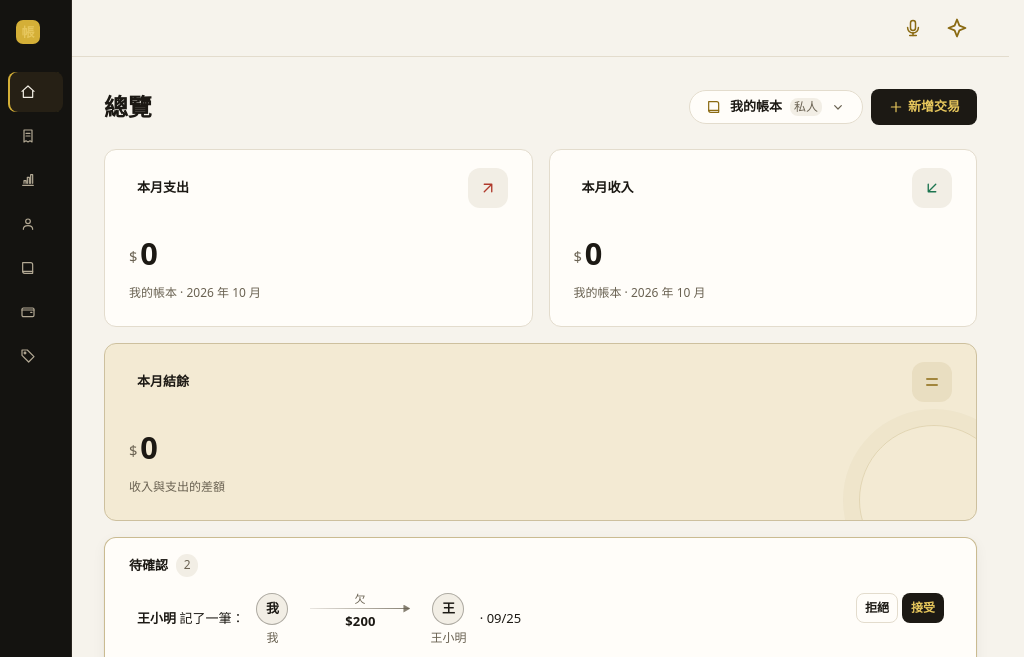
Scenario: PendingCard › keeps only one proposal expanded at a time without a ledger picker
The image size is (1024, 657).
Expected: the button "新增交易" is shown, left=871, top=89, right=977, bottom=125
Step 1. Click the 1st button "接受" → coordinates (923, 608), box left=902, top=592, right=944, bottom=622
(page scrolled)
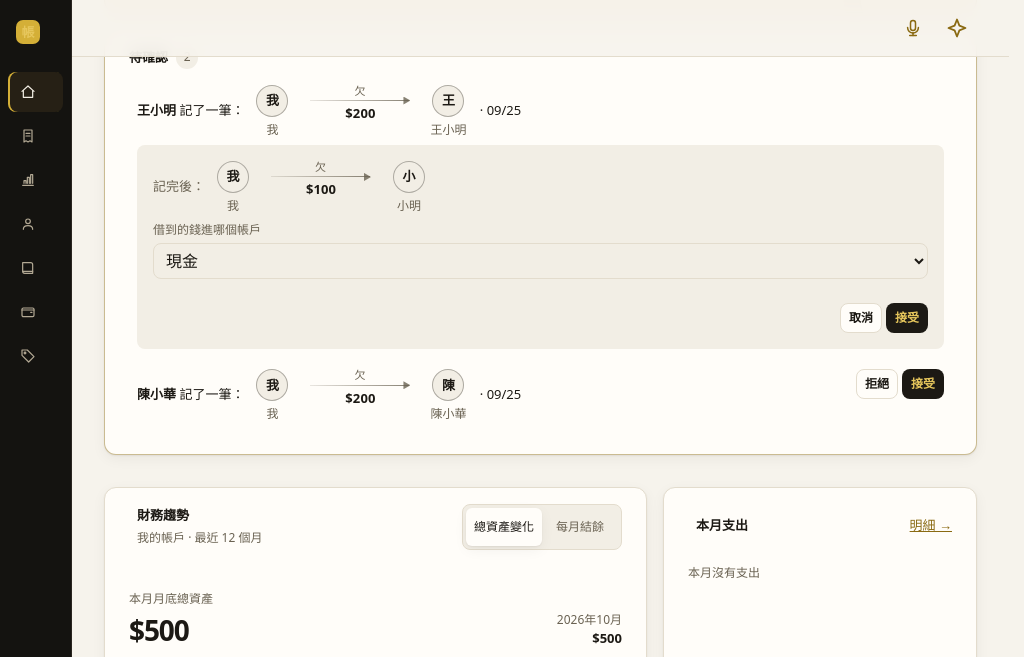
Now the dropdown labelled "借到的錢進哪個帳戶" is shown, box left=153, top=243, right=928, bottom=279
Step 2. Click the 2nd button "接受" → coordinates (923, 384), box left=902, top=369, right=944, bottom=399
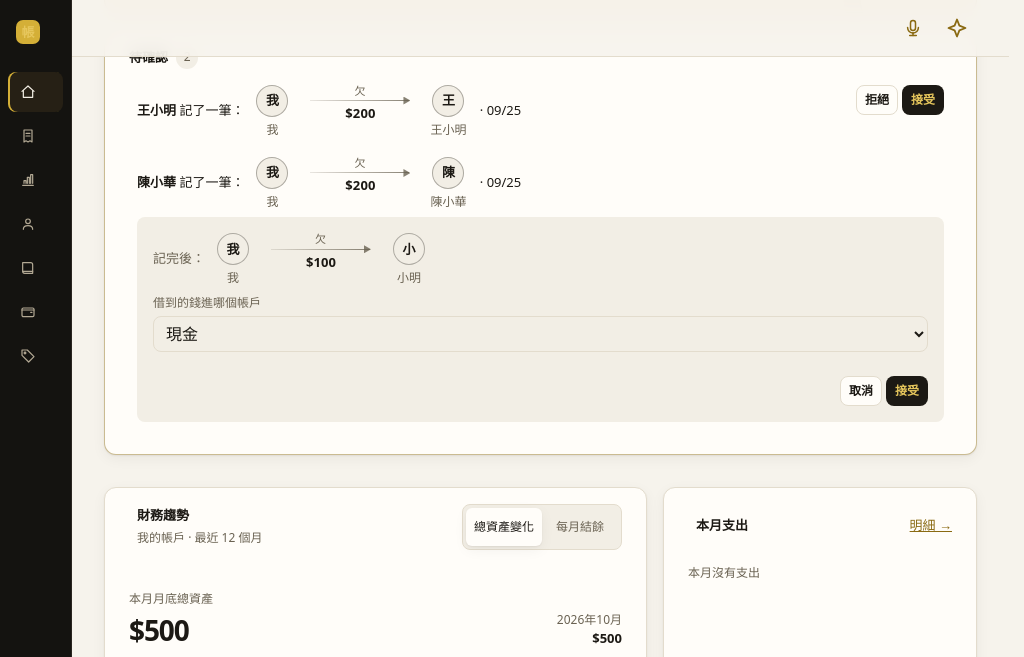
Now the dropdown labelled "借到的錢進哪個帳戶" is shown, box left=153, top=316, right=928, bottom=352
